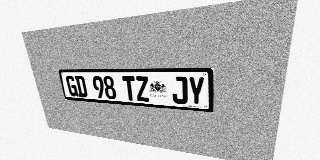8: (102, 76, 117, 99)
9: (92, 76, 106, 99)
D: (74, 76, 88, 97)
G: (65, 75, 78, 97)
J: (171, 76, 188, 104)
T: (122, 76, 137, 101)
Y: (188, 77, 205, 106)
Z: (135, 76, 150, 102)
